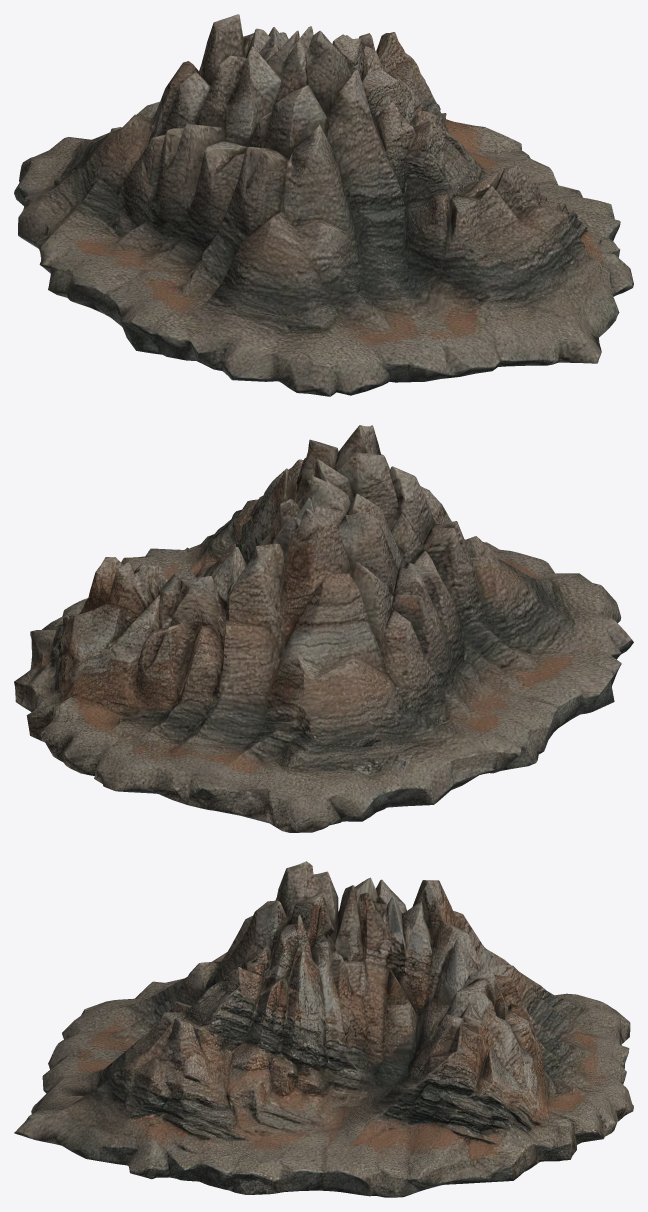
Rendered from peak.glb.
3 views of the same model, one above another, from view 1: azimuth 30°, elevation 25°; view 2: azimuth 150°, elevation 25°; view 3: azimuth 270°, elevation 25° (orthographic). The views are drawn at different scales.
Parts seen in each view (by area): view 1: tripo_node_0569d3ef-cd92-453c-aa2c-84c82b59ee00; view 2: tripo_node_0569d3ef-cd92-453c-aa2c-84c82b59ee00; view 3: tripo_node_0569d3ef-cd92-453c-aa2c-84c82b59ee00.
Part boxes in pixels (box(x1,y1,x2,y2)): tripo_node_0569d3ef-cd92-453c-aa2c-84c82b59ee00: box(14, 14, 633, 396); tripo_node_0569d3ef-cd92-453c-aa2c-84c82b59ee00: box(14, 425, 633, 832); tripo_node_0569d3ef-cd92-453c-aa2c-84c82b59ee00: box(14, 861, 633, 1197).
Size of the model in its own units: 0.807 by 0.3841 by 0.9787.
Materials: 1 (1 with a texture image).
